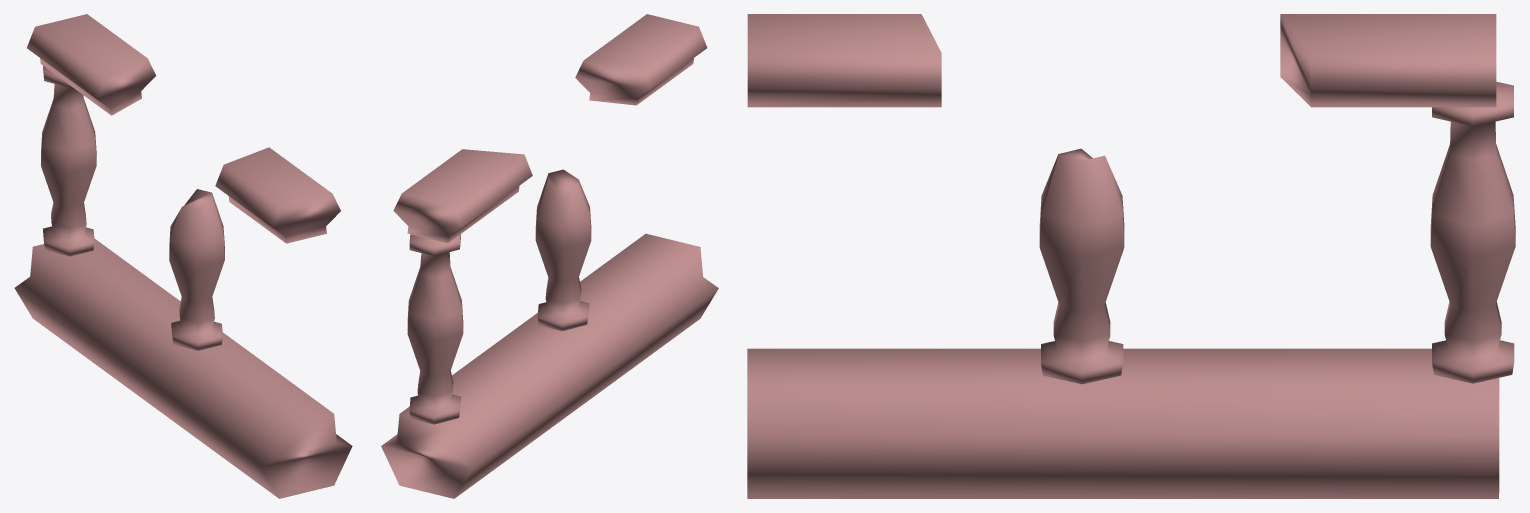
Rendered from Stone_Baluster_03_Lod0.fbx.
3 renders of one model, left to right at view 1: azimuth 30°, elevation 25°; view 2: azimuth 150°, elevation 25°; view 3: azimuth 270°, elevation 25°, orthographic. The views are drawn at different scales.
Parts seen in each view (by area): view 1: Stone_Baluster_03_Lod0; view 2: Stone_Baluster_03_Lod0; view 3: Stone_Baluster_03_Lod0.
Boxes of the visible parts, bbox=[...] form: Stone_Baluster_03_Lod0: bbox=[14, 14, 352, 498]; Stone_Baluster_03_Lod0: bbox=[381, 14, 718, 498]; Stone_Baluster_03_Lod0: bbox=[747, 14, 1515, 498].
Bounding box in the file's own units: 32.21 × 98.03 × 153.
